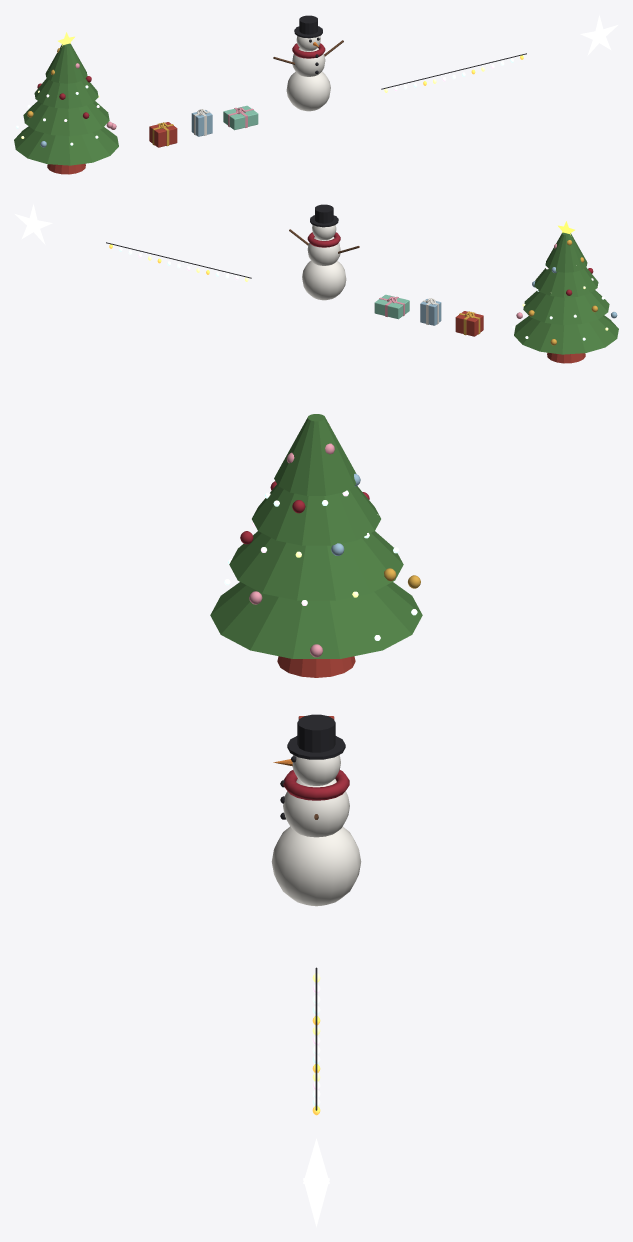
File: christmas-props.glb
3 renders of one model, top to bottom at view 1: azimuth 30°, elevation 25°; view 2: azimuth 150°, elevation 25°; view 3: azimuth 270°, elevation 25°, orthographic. The views are drawn at different scales.
Parts seen in each view (by area): view 1: tier_0, tier_1, tier_2, snow_base, tier_3, snow_mid, box.002, box, box.001, hat_s, pot, scarf (+1 smaller); view 2: tier_0, tier_1, tier_2, snow_base, tier_3, snow_mid, box.002, box, box.001, hat_s, pot, snow_head (+1 smaller); view 3: tier_0, tier_1, tier_2, snow_base, tier_3, snow_mid, hat_s, pot, snow_head, scarf.
Part boxes in pixels (<box>): tier_0: <box>14,126,118,165</box>; tier_1: <box>23,101,109,136</box>; tier_2: <box>34,78,98,108</box>; snow_base: <box>286,71,330,111</box>; tier_3: <box>45,43,87,83</box>; snow_mid: <box>292,47,325,76</box>; box.002: <box>223,105,258,130</box>; box: <box>149,122,177,147</box>; box.001: <box>191,110,212,136</box>; hat_s: <box>299,15,317,34</box>; pot: <box>47,163,85,174</box>; scarf: <box>292,43,325,58</box>; tier_0: <box>514,315,618,354</box>; tier_1: <box>523,290,609,325</box>; tier_2: <box>534,267,598,297</box>; snow_base: <box>302,260,346,300</box>; tier_3: <box>545,232,587,272</box>; snow_mid: <box>307,236,340,265</box>; box.002: <box>374,294,409,319</box>; box: <box>455,311,483,336</box>; box.001: <box>420,299,441,325</box>; hat_s: <box>315,204,333,223</box>; pot: <box>547,352,585,363</box>; snow_head: <box>312,225,336,240</box>; tier_0: <box>210,582,422,658</box>; tier_1: <box>229,531,403,600</box>; tier_2: <box>252,484,380,545</box>; snow_base: <box>271,826,361,906</box>; tier_3: <box>274,414,356,495</box>; snow_mid: <box>283,779,349,837</box>; hat_s: <box>297,714,335,752</box>; pot: <box>277,656,355,677</box>; snow_head: <box>292,755,340,785</box>; scarf: <box>283,770,349,800</box>.
Bounding box in the file's own units: 12.33 × 2.99 × 1.9.
